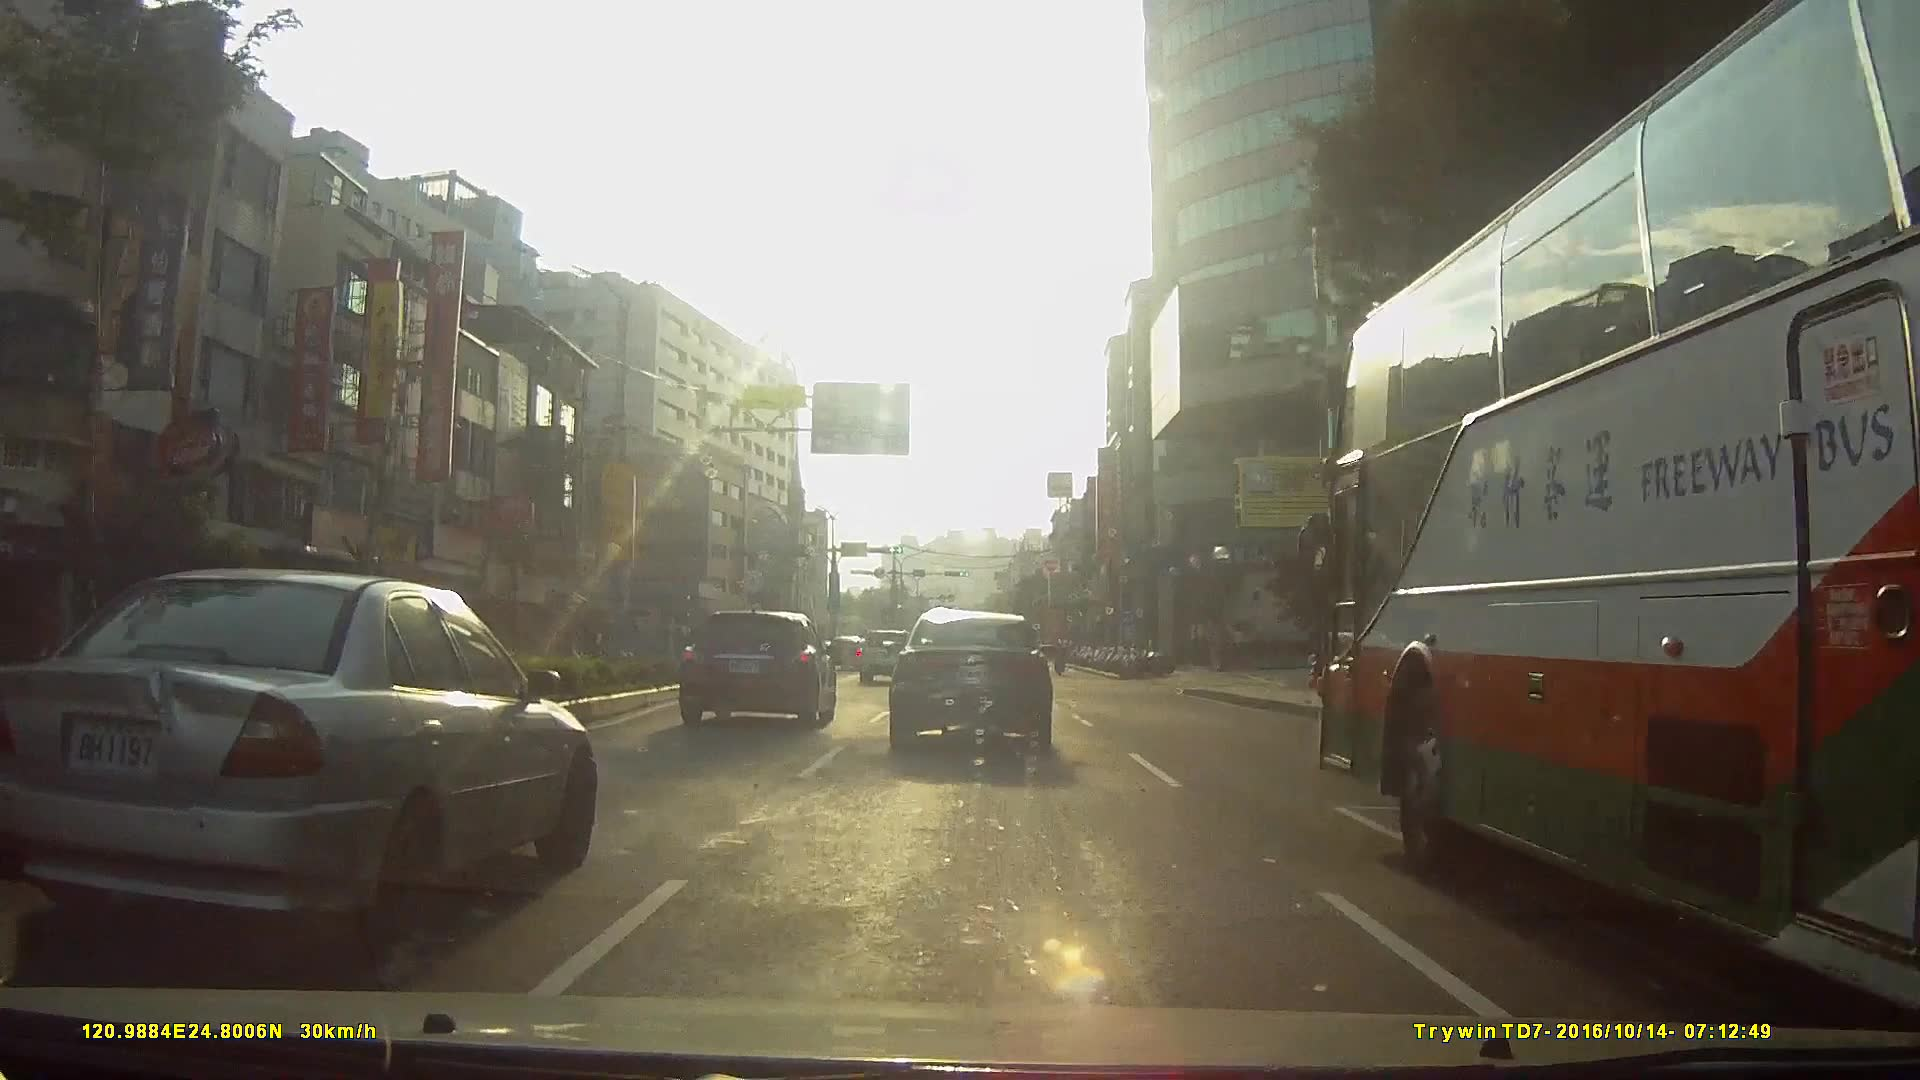vehicle: (1299, 11, 1917, 1005), (0, 564, 595, 975), (884, 604, 1051, 752), (675, 609, 835, 727), (853, 630, 913, 684)
